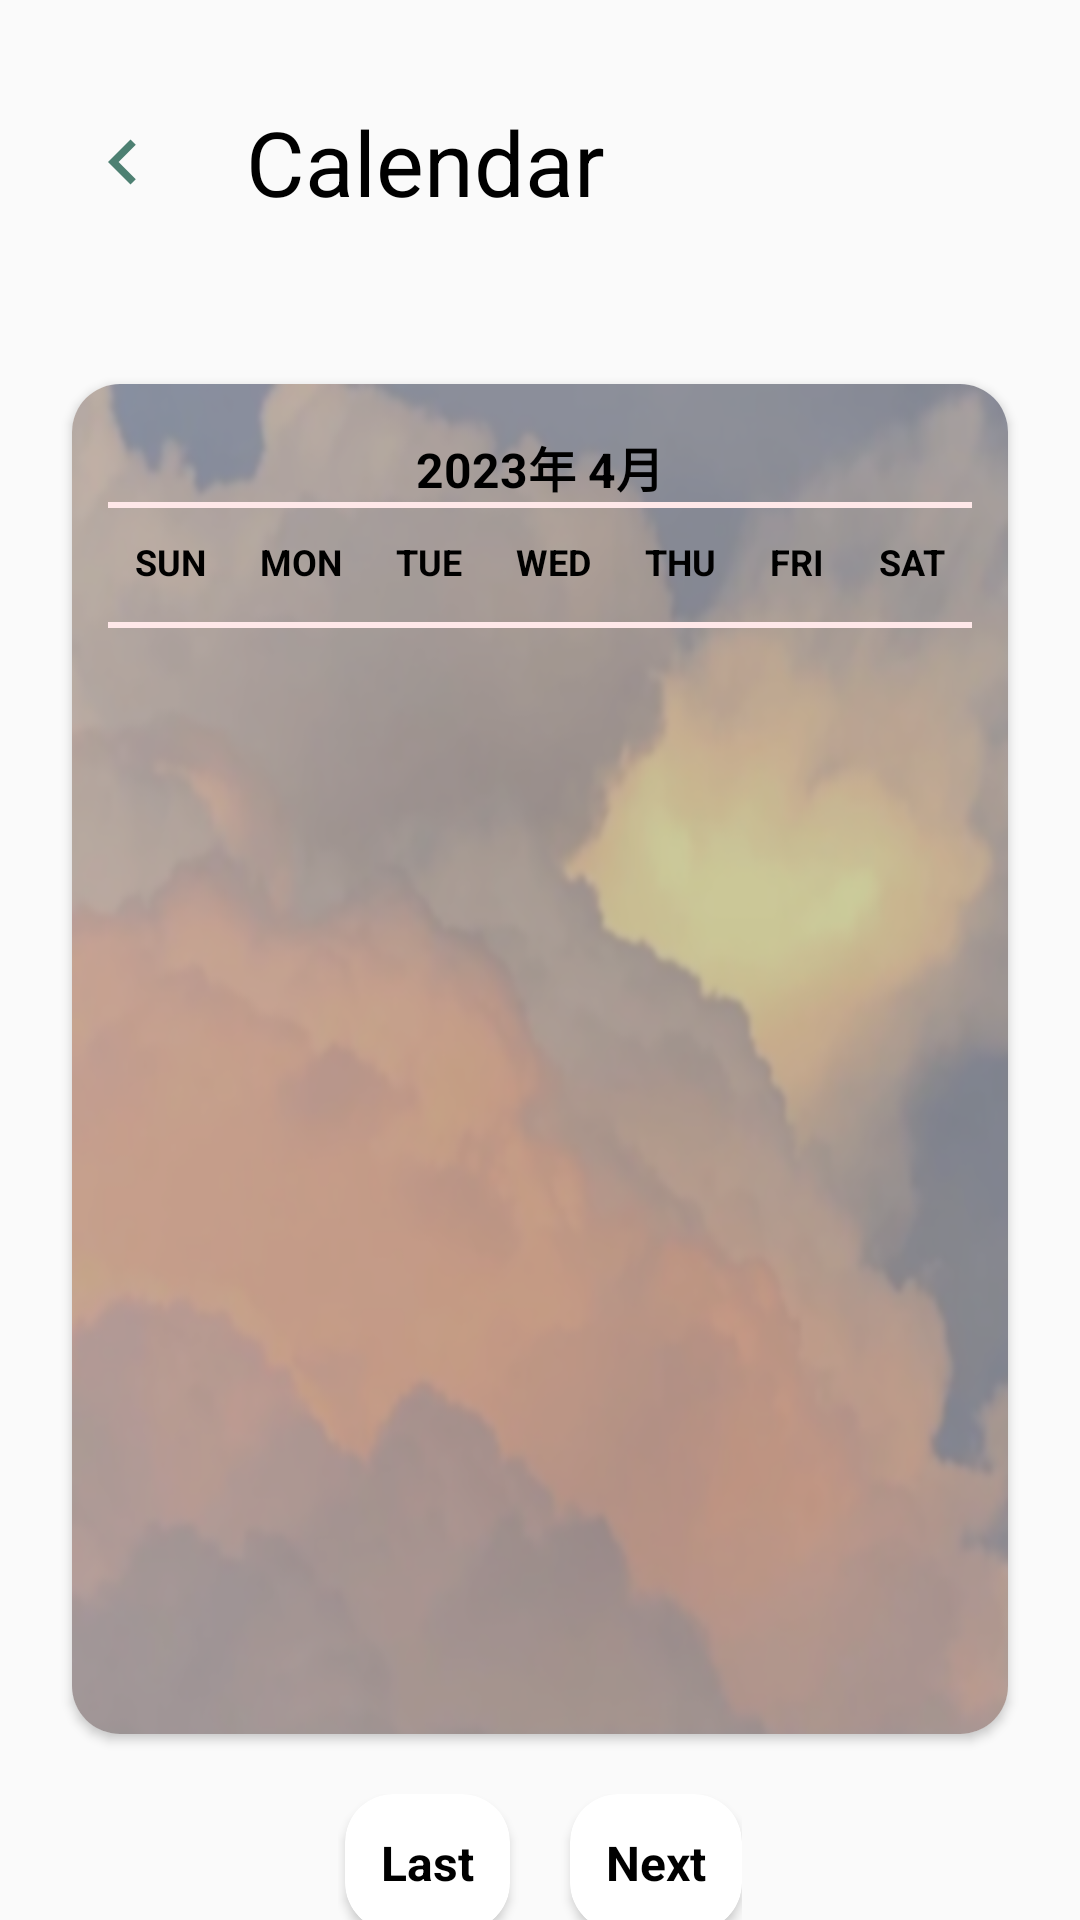

Screen size 1080 × 1920. Icon name, then its center in pixels as (x,y):
keyboard arrow left: (122,162)
